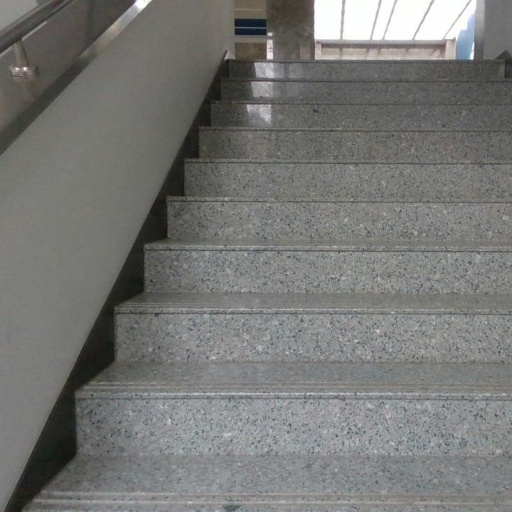Stairs: (24, 61, 512, 512)
